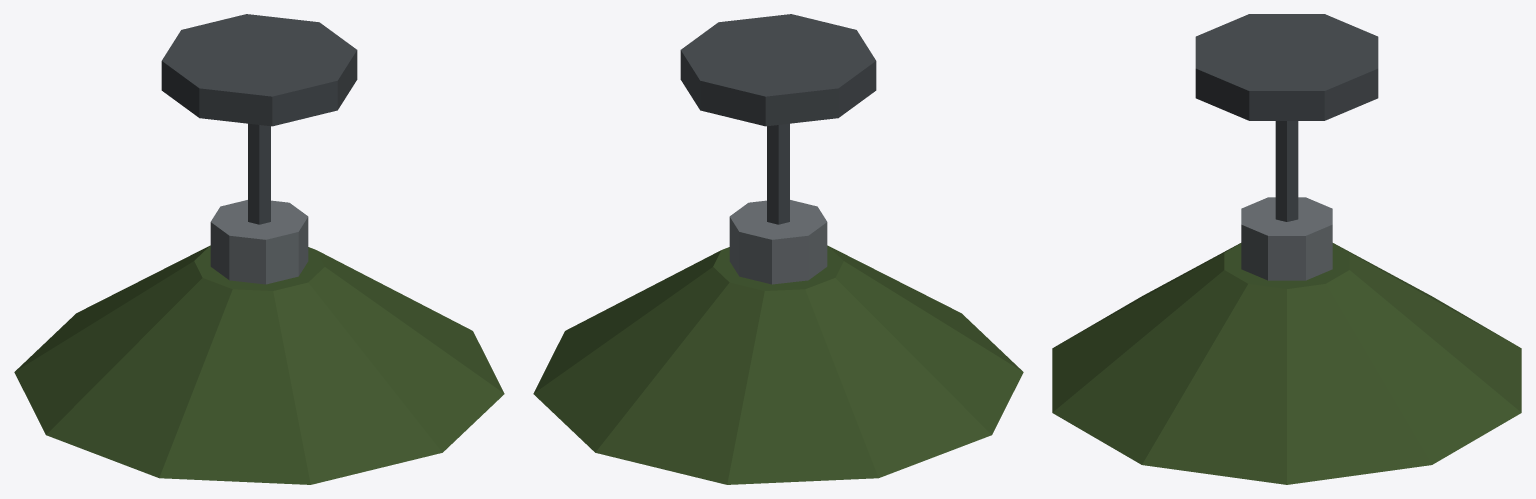
The model's file is lamp_ceiling_nakalivaniya_plafon_zelenyy_idle.glb.
3 renders of one model, left to right at view 1: azimuth 30°, elevation 25°; view 2: azimuth 150°, elevation 25°; view 3: azimuth 270°, elevation 25°, orthographic.
Visible parts, largest first — view 1: lamp_ceiling_nakalivaniya_plafon_zelenyy_idle; view 2: lamp_ceiling_nakalivaniya_plafon_zelenyy_idle; view 3: lamp_ceiling_nakalivaniya_plafon_zelenyy_idle.
Part boxes in pixels (x1,y1,x2,y2): lamp_ceiling_nakalivaniya_plafon_zelenyy_idle: (14,14,504,484); lamp_ceiling_nakalivaniya_plafon_zelenyy_idle: (533,14,1023,484); lamp_ceiling_nakalivaniya_plafon_zelenyy_idle: (1052,14,1521,484).
Size of the model in its own units: 0.3 by 0.25 by 0.2853.
Materials: 2 (2 with a texture image).
